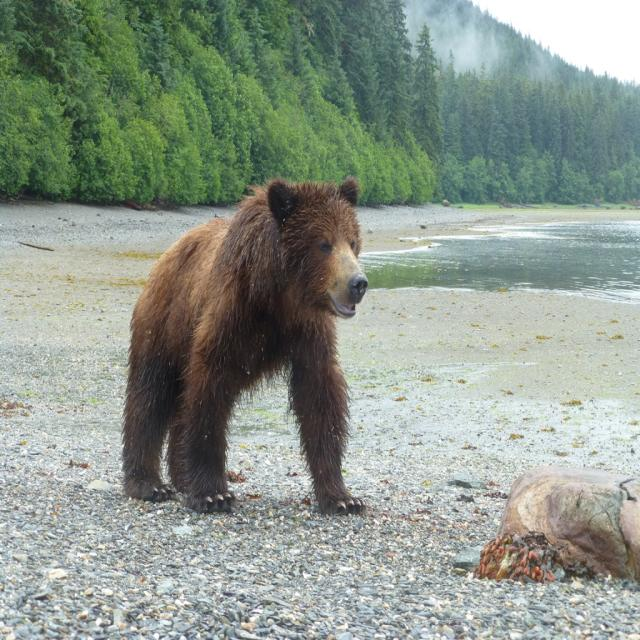Cheetahs: (123, 178, 370, 512)
